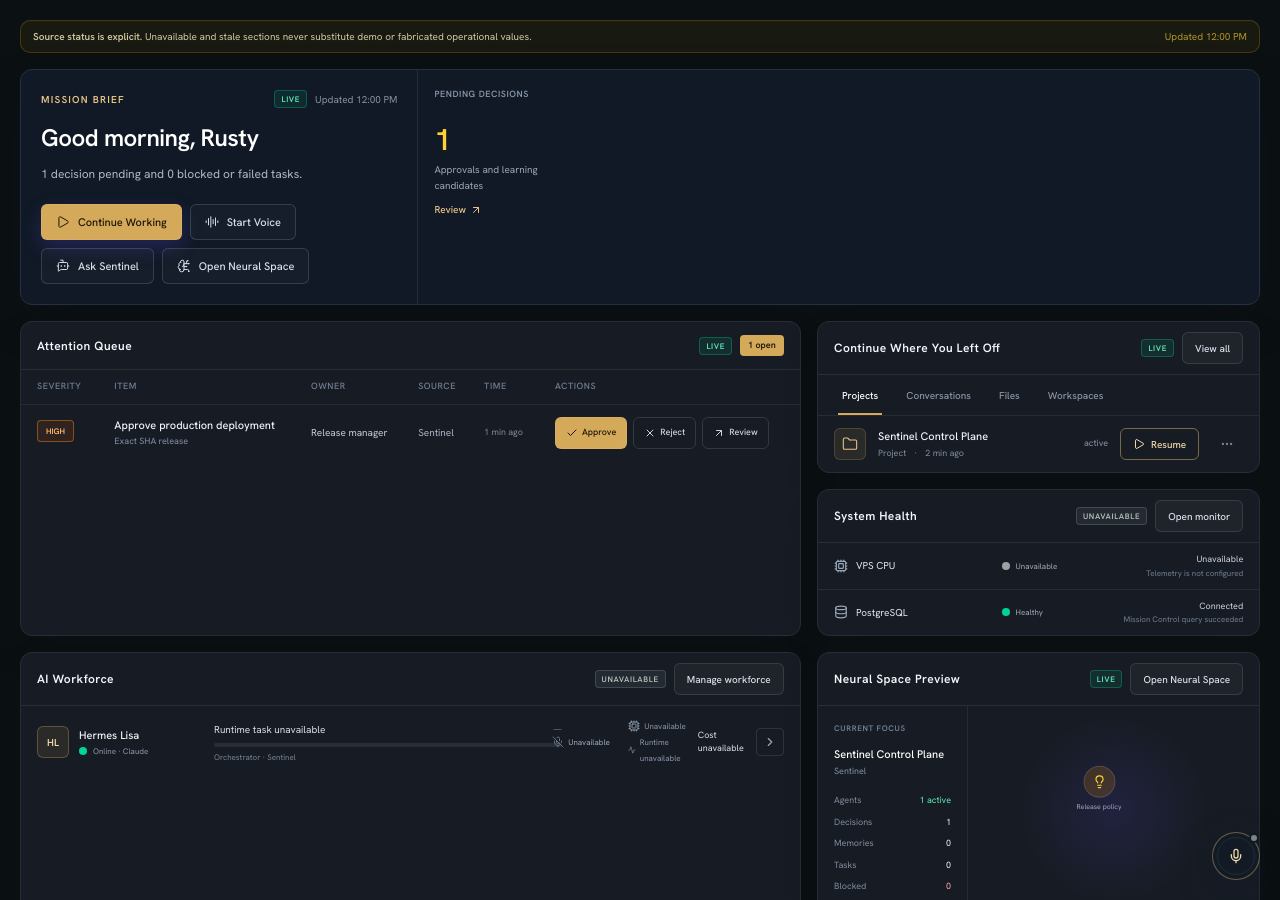
Scenario: MissionControlPage › switches recent-work tabs
Check: the text "Sentinel Control Plane" in the row of "Resume" is shown, box [878,429,988,443]
Click the tab "Conversations". click: click(938, 395)
box: [894,375,983,415]
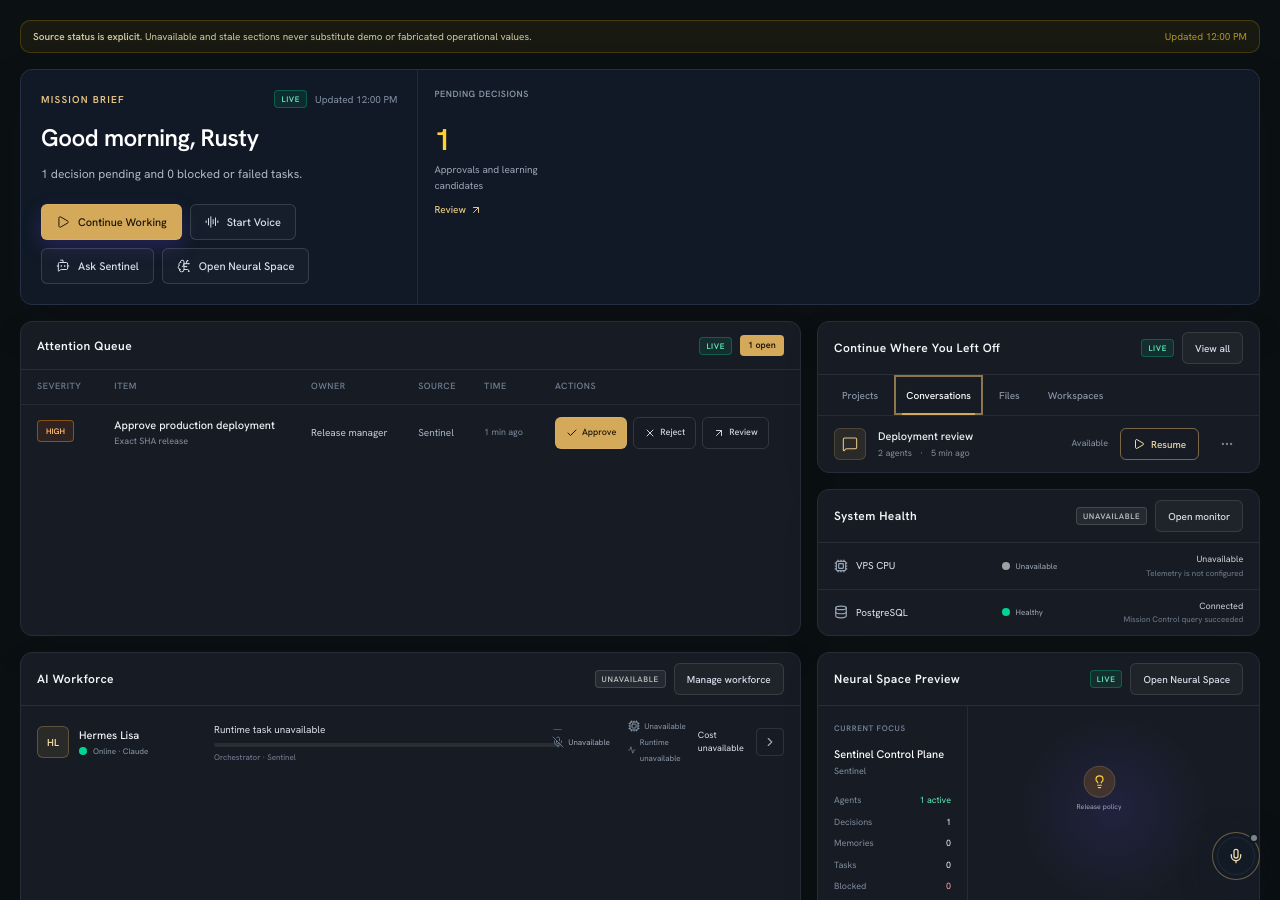
Check: the text "Deployment review" is shown, box [878,429,973,443]
